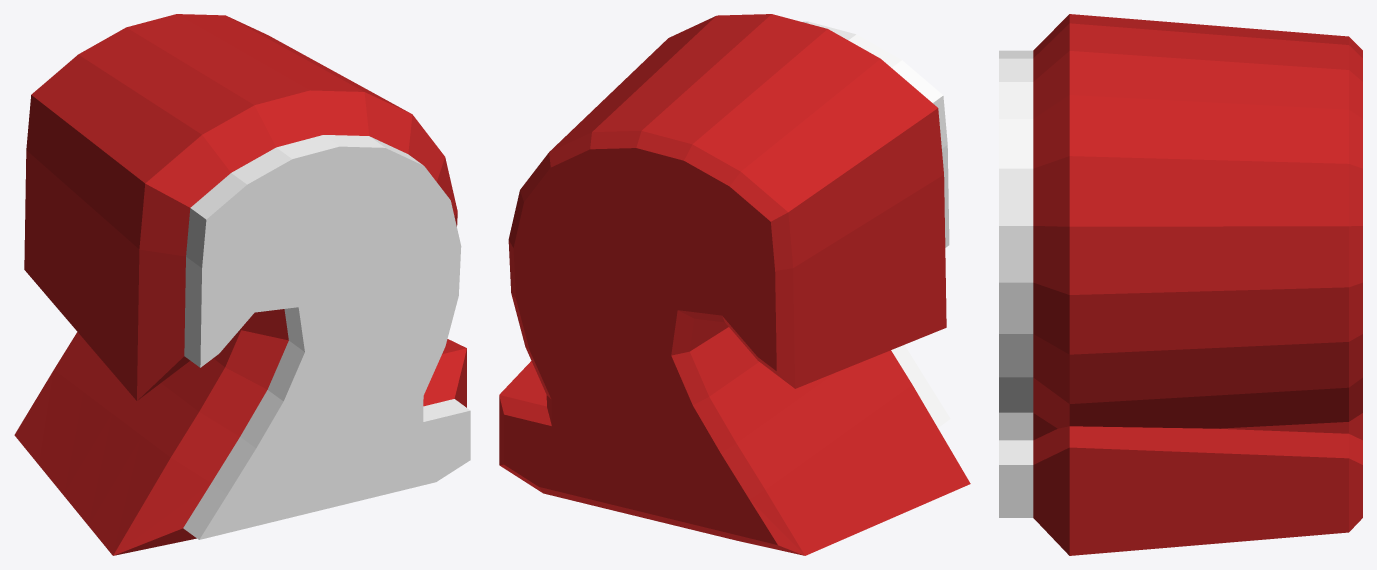
3 renders of one model, left to right at view 1: azimuth 30°, elevation 25°; view 2: azimuth 150°, elevation 25°; view 3: azimuth 270°, elevation 25°, orthographic. The views are drawn at different scales.
Visible parts, largest first — view 1: MoText_1; view 2: MoText_1; view 3: MoText_1.
Part boxes in pixels (left/top/right/bottom): MoText_1: left=14, top=14, right=470, bottom=555; MoText_1: left=499, top=14, right=970, bottom=555; MoText_1: left=999, top=14, right=1362, bottom=555.
Size of the model in its own units: 156 by 177 by 130.
